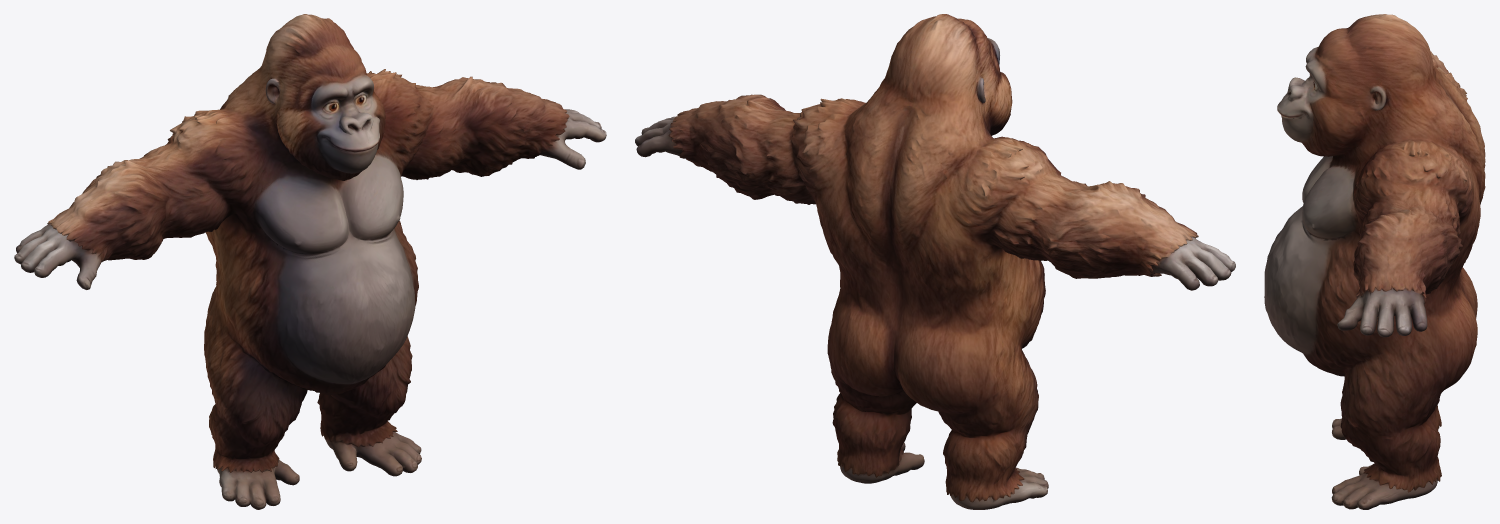
File: gorilla_gembira.glb
3 renders of one model, left to right at view 1: azimuth 30°, elevation 25°; view 2: azimuth 150°, elevation 25°; view 3: azimuth 270°, elevation 25°, orthographic. The views are drawn at different scales.
Visible parts, largest first — view 1: tripo_node_72da10ba-bdf7-4788-b333-30c968cf4efd; view 2: tripo_node_72da10ba-bdf7-4788-b333-30c968cf4efd; view 3: tripo_node_72da10ba-bdf7-4788-b333-30c968cf4efd.
Part boxes in pixels (x1=…): tripo_node_72da10ba-bdf7-4788-b333-30c968cf4efd: x1=14, y1=14, x2=606, y2=509; tripo_node_72da10ba-bdf7-4788-b333-30c968cf4efd: x1=635, y1=14, x2=1235, y2=509; tripo_node_72da10ba-bdf7-4788-b333-30c968cf4efd: x1=1264, y1=14, x2=1485, y2=509.
Size of the model in its own units: 1 by 0.7565 by 0.3353.
1 material, 1 textured.
